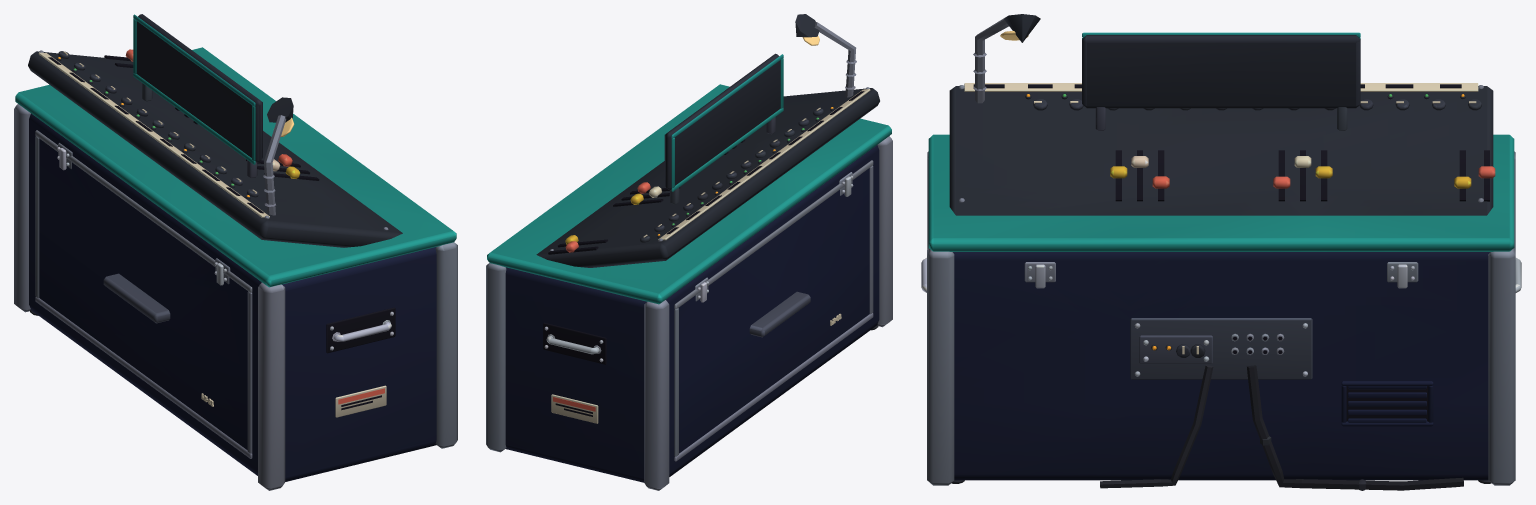
The model's file is SM_Station_LightingBoard.fbx.
3 renders of one model, left to right at view 1: azimuth 30°, elevation 25°; view 2: azimuth 150°, elevation 25°; view 3: azimuth 270°, elevation 25°, orthographic. The views are drawn at different scales.
Parts seen in each view (by area): view 1: SM_Station_LightingBoard; view 2: SM_Station_LightingBoard; view 3: SM_Station_LightingBoard.
Part boxes in pixels (x1,y1,x2,y2): SM_Station_LightingBoard: [14, 14, 457, 490]; SM_Station_LightingBoard: [486, 14, 892, 490]; SM_Station_LightingBoard: [921, 14, 1521, 490].
Size of the model in its own units: 93.62 by 147 by 199.
